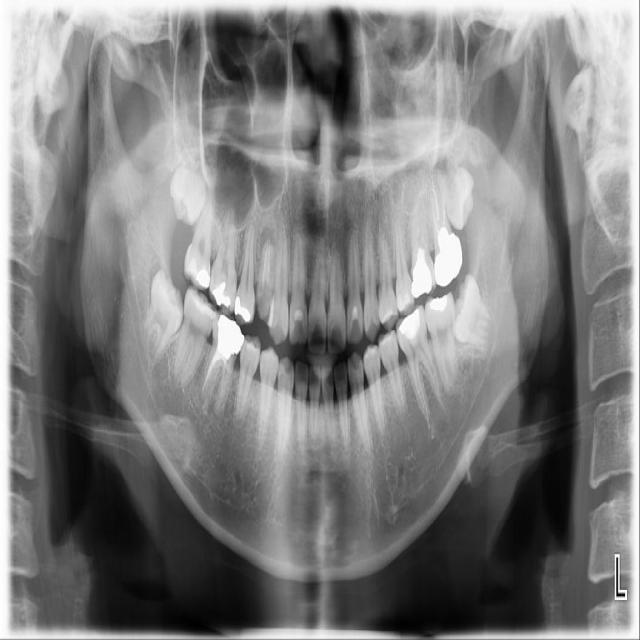Crown: (211, 309, 245, 362), (434, 231, 462, 287)
Filling: (395, 303, 427, 354), (410, 250, 437, 298), (290, 297, 308, 345), (240, 334, 260, 376), (346, 299, 363, 343), (255, 292, 272, 327), (232, 293, 252, 322), (212, 279, 230, 309), (195, 266, 211, 290), (430, 298, 450, 312)
Root Canal Treatment: (201, 352, 219, 396), (432, 179, 439, 224), (440, 176, 445, 226), (430, 177, 431, 199)
